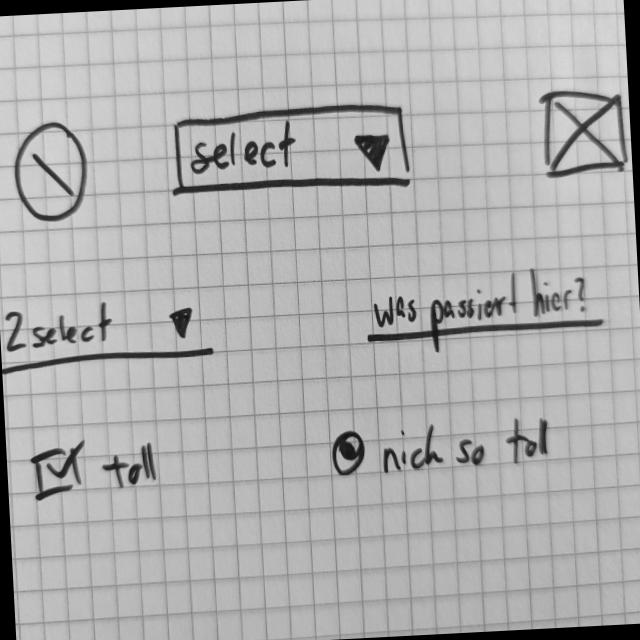checkbox: (29, 433, 162, 508)
icon-button: (11, 119, 94, 228)
image: (536, 83, 633, 186)
input: (363, 260, 609, 364)
radio: (329, 413, 561, 483)
select: (169, 99, 418, 205), (1, 292, 219, 380)
